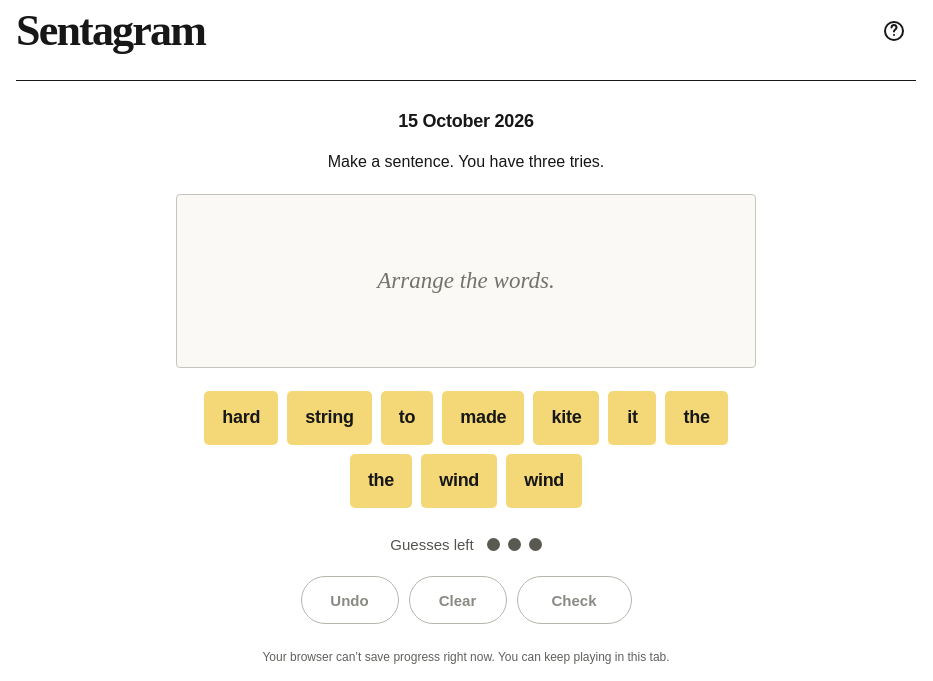
it: daily game interface › keeps the game playable if storage is blocked
The width and height of the screenshot is (933, 681).
Check: the text "Your browser can’t save progress right now. You can keep playing in this tab." is shown, box x1=262 y1=650 x2=670 y2=664
Click the button with aria-label "Add kite to sentence" at (566, 418), box x1=533 y1=391 x2=599 y2=445
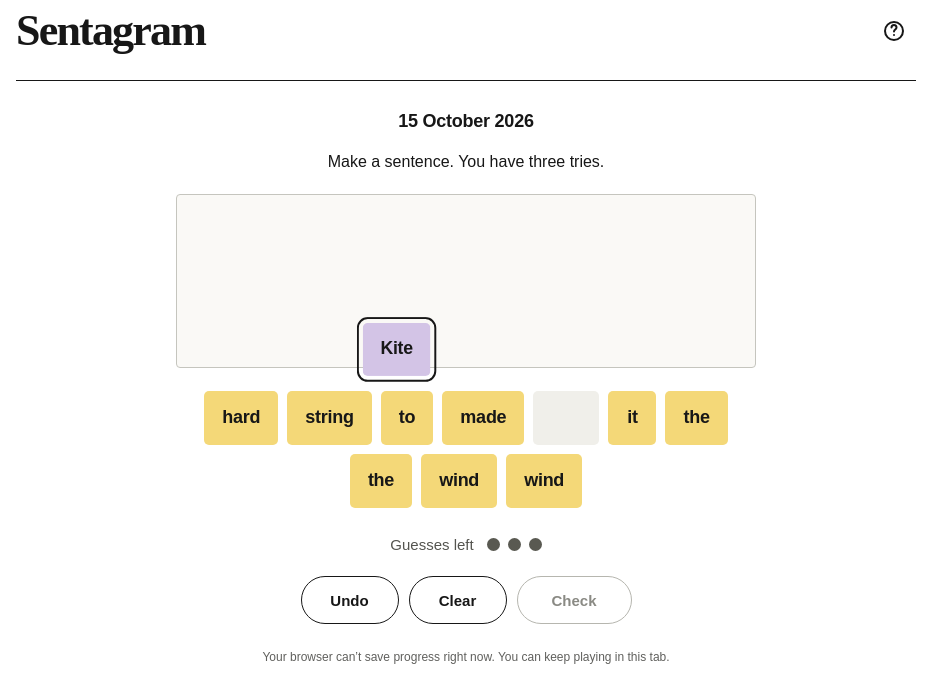
Check: the button with aria-label "Return kite to word bank, word 1" is shown, box x1=363 y1=323 x2=430 y2=376
